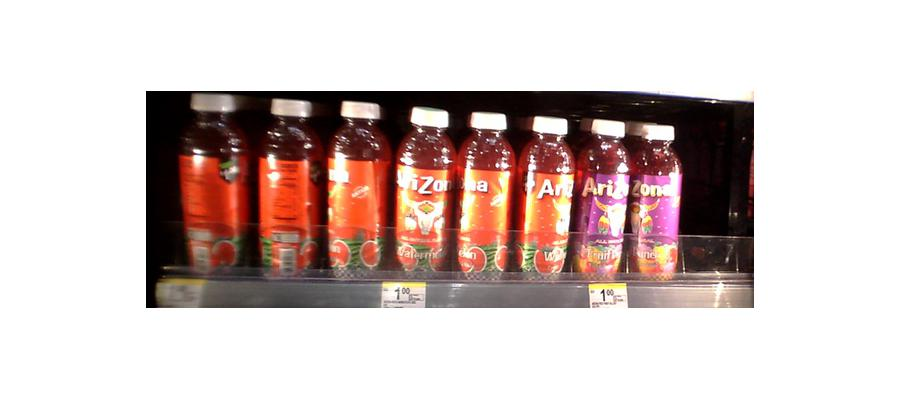bottle: (177, 91, 247, 272), (254, 92, 320, 279), (324, 98, 388, 278), (391, 102, 453, 278), (515, 112, 573, 279), (458, 108, 513, 282), (574, 114, 628, 279), (630, 118, 679, 281)
